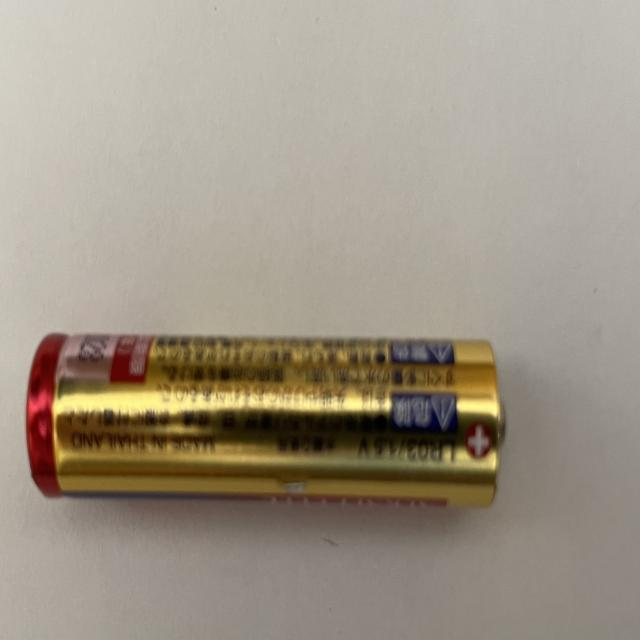hazardous waste: (23, 330, 510, 520)
